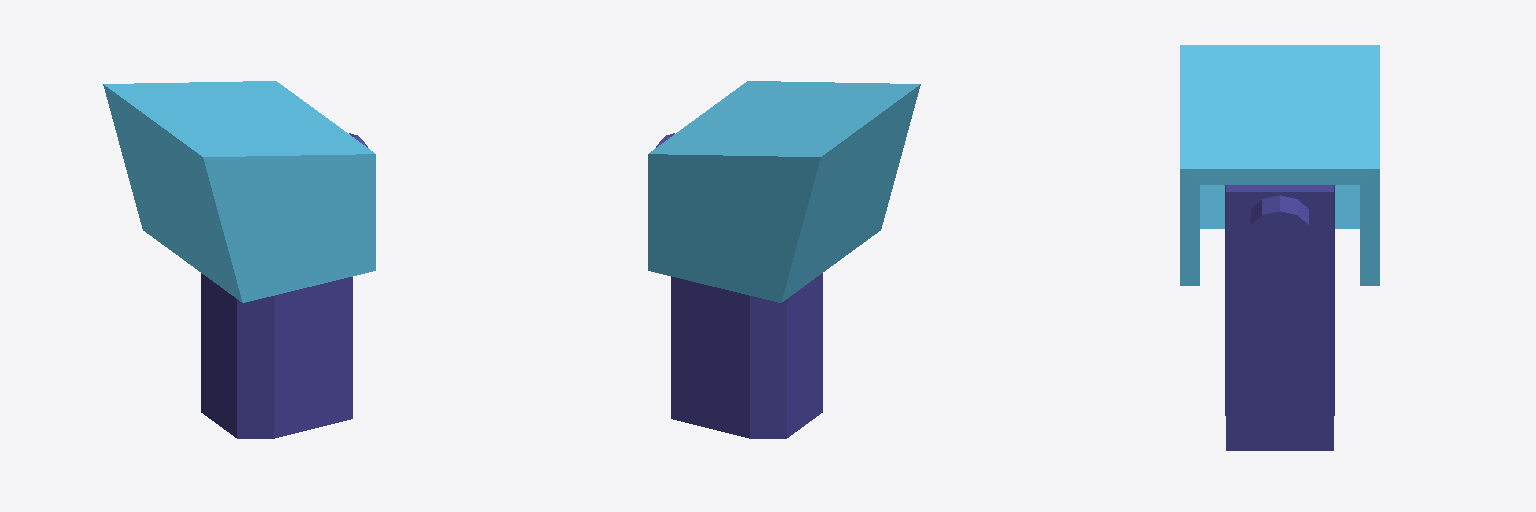
File: handUR.obj
3 renders of one model, left to right at view 1: azimuth 30°, elevation 25°; view 2: azimuth 150°, elevation 25°; view 3: azimuth 270°, elevation 25°, orthographic.
Visible parts, largest first — view 1: polySurface46; view 2: polySurface46; view 3: polySurface46.
Boxes of the visible parts, x1=… form: polySurface46: x1=103, y1=81, x2=375, y2=438; polySurface46: x1=648, y1=81, x2=920, y2=438; polySurface46: x1=1180, y1=45, x2=1379, y2=450.
Bounding box in the file's own units: 3.76 × 5.6 × 3.16.